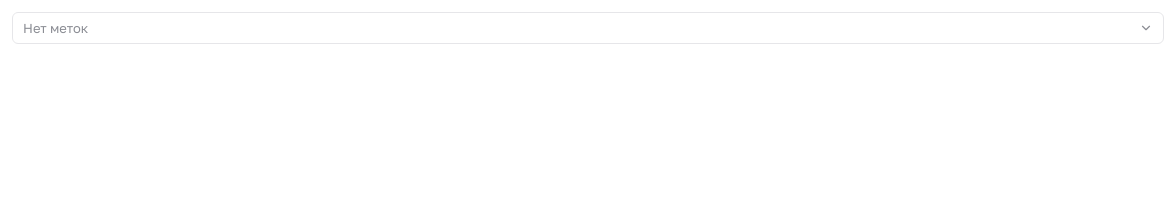
Test: label picker › won't create a duplicate name and reports failures
Later steps or results of the test are not shown.
Click the button "Нет меток" at (56,28), box [12, 12, 1164, 44]
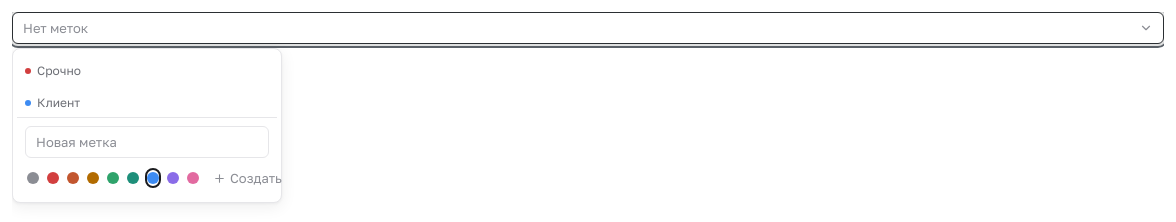
Check: the menu item "Срочно" is shown, box [17, 53, 277, 85]
Type "срочно" into the field named "Название новой метки" at (147,142), box [25, 126, 269, 158]
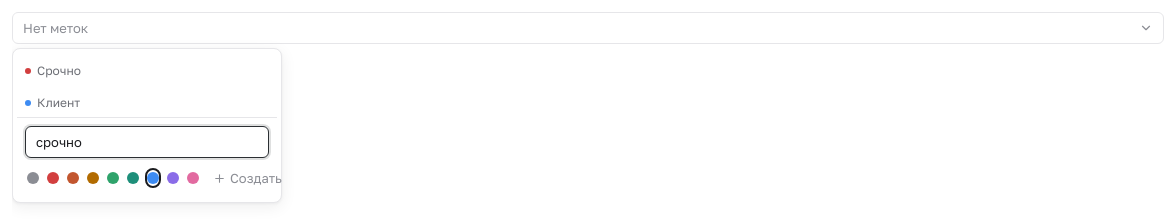
Check: the button "Создать" is disabled, box [205, 166, 290, 190]
